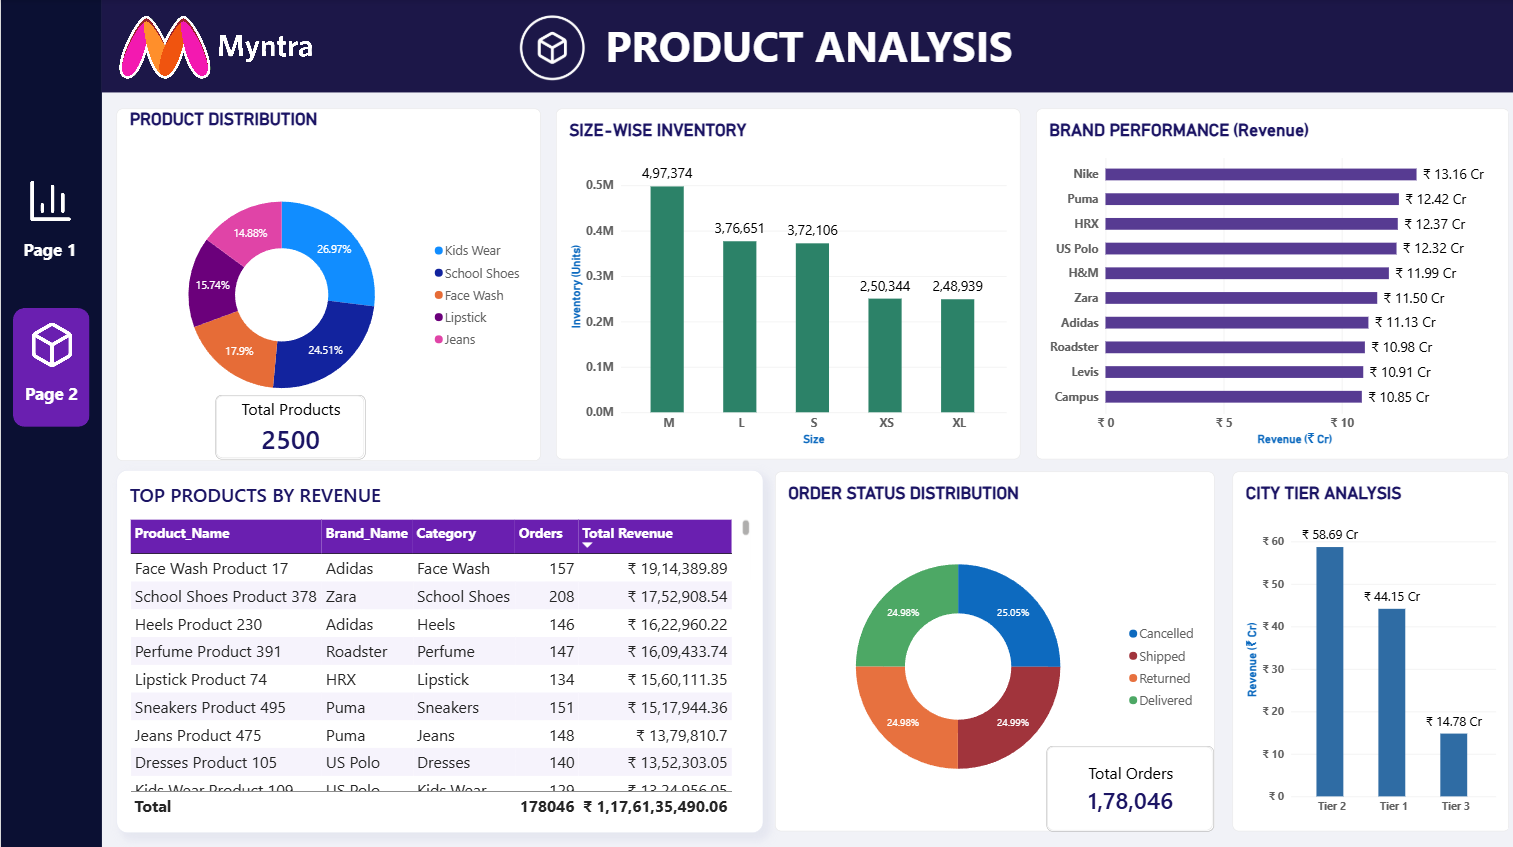

The dashboard page shown, as its layout file describes it:
{"tool":"powerbi","page":{"name":"Product Analysis","canvas":[1920,1080],"ordinal":1},"visuals":[{"type":"shape","box":[0,0,127.6,1080.5],"z":0,"group":"g6"},{"type":"shape","box":[127.6,0,1791.8,117.9],"z":0,"group":"g7"},{"type":"textbox","box":[763.5,23.2,790.6,71.5],"z":0,"group":"g2"},{"type":"donutChart","title":"PRODUCT DISTRIBUTION","fields":{"Category":["DimProduct.Category"],"Y":["Measure Table.Total Orders"]},"box":[145,137.9,535.4,444.6],"z":0,"group":"g5"},{"type":"shape","box":[13.5,209.3,96.7,150],"z":0,"group":"g1"},{"type":"shape","box":[15.5,391,96.7,150],"z":0,"group":"g3"},{"type":"tableEx","title":"TOP PRODUCTS BY REVENUE","fields":{"Values":["MyntraOrdersMaster.Product_Name","MyntraOrdersMaster.Brand_Name","MyntraOrdersMaster.Category","CountNonNull(MyntraOrdersMaster.Order_ID)","Measure Table.Total Revenue"]},"box":[145,593.4,815.7,458.1],"z":0},{"type":"donutChart","title":"ORDER STATUS DISTRIBUTION","fields":{"Category":["MyntraOrdersMaster.Order_Status"],"Y":["Measure Table.Total Orders"]},"box":[976.1,595.3,554.7,454.2],"z":0,"group":"g4"},{"type":"image","box":[143.1,9.7,253.2,102.4],"z":1000,"group":"g7"},{"type":"image","box":[653.3,19.3,85,85],"z":1000,"group":"g2"},{"type":"clusteredColumnChart","title":"SIZE-WISE INVENTORY","fields":{"Category":["MyntraProductCatalog.Size"],"Y":["Sum(MyntraProductCatalog.Units)"]},"box":[700.7,138.8,585.7,442.6],"z":1000},{"type":"group","id":"g1","title":"Page 1","box":[13.5,193.3,96.6,166.2],"z":1000,"group":"g6"},{"type":"image","box":[21.2,193.3,83,123],"z":1000,"group":"g1"},{"type":"image","box":[23.2,375,83,123],"z":1000,"group":"g3"},{"type":"cardVisual","fields":{"Data":["Measure Table.Total Products"]},"box":[270.6,499.4,189.4,81.2],"z":1000,"group":"g5"},{"type":"cardVisual","fields":{"Data":["Measure Table.Total Orders"]},"box":[1319.2,941.3,211.7,108.2],"z":1000,"group":"g4"},{"type":"group","id":"g2","title":"Group 2","box":[653.3,19.3,900.7,85],"z":2000,"group":"g7"},{"type":"clusteredBarChart","title":"BRAND PERFORMANCE (Revenue)","fields":{"Category":["DimProduct.Brand_Name"],"Y":["Measure Table.Revenue Cr"]},"box":[1306.6,138.8,597.3,442.6],"z":2000},{"type":"textbox","box":[28.2,300.3,71,32],"z":2000,"group":"g1"},{"type":"group","id":"g3","title":"Page 2","box":[15.5,375,96.6,166.2],"z":2000,"group":"g6"},{"type":"textbox","box":[30.2,482,71,32],"z":2000,"group":"g3"},{"type":"clusteredColumnChart","title":"CITY TIER ANALYSIS","fields":{"Category":["MyntraOrdersMaster.City_Tier"],"Y":["Measure Table.Revenue Cr"]},"box":[1554,595.3,349.9,454.2],"z":3000},{"type":"group","id":"g4","title":"chart 2","box":[976.1,595.3,554.7,454.2],"z":4000},{"type":"group","id":"g5","title":"chart 1","box":[145,137.9,535.4,444.6],"z":5000},{"type":"group","id":"g6","title":"Sidebar","box":[0,0,127.6,1080.5],"z":6000},{"type":"group","id":"g7","title":"Heading","box":[127.6,0,1791.8,117.9],"z":7000}]}

Visuals, with their boxes on the page's 1920x1080 design canvas (x1, y1, x2, y2). These are canvas units, not pixel positions in the 1513x847 screenshot, which may show the page scaled, cropped or inside an application window:
shape: x1=0 y1=0 x2=128 y2=1080
shape: x1=128 y1=0 x2=1919 y2=118
textbox: x1=764 y1=23 x2=1554 y2=95
"PRODUCT DISTRIBUTION" donutChart: x1=145 y1=138 x2=680 y2=582
shape: x1=14 y1=209 x2=110 y2=359
shape: x1=16 y1=391 x2=112 y2=541
"TOP PRODUCTS BY REVENUE" tableEx: x1=145 y1=593 x2=961 y2=1052
"ORDER STATUS DISTRIBUTION" donutChart: x1=976 y1=595 x2=1531 y2=1050
image: x1=143 y1=10 x2=396 y2=112
image: x1=653 y1=19 x2=738 y2=104
"SIZE-WISE INVENTORY" clusteredColumnChart: x1=701 y1=139 x2=1286 y2=581
"Page 1" group: x1=14 y1=193 x2=110 y2=360
image: x1=21 y1=193 x2=104 y2=316
image: x1=23 y1=375 x2=106 y2=498
cardVisual - Measure Table.Total Products: x1=271 y1=499 x2=460 y2=581
cardVisual - Measure Table.Total Orders: x1=1319 y1=941 x2=1531 y2=1050
"Group 2" group: x1=653 y1=19 x2=1554 y2=104
"BRAND PERFORMANCE (Revenue)" clusteredBarChart: x1=1307 y1=139 x2=1904 y2=581
textbox: x1=28 y1=300 x2=99 y2=332
"Page 2" group: x1=16 y1=375 x2=112 y2=541
textbox: x1=30 y1=482 x2=101 y2=514
"CITY TIER ANALYSIS" clusteredColumnChart: x1=1554 y1=595 x2=1904 y2=1050
"chart 2" group: x1=976 y1=595 x2=1531 y2=1050
"chart 1" group: x1=145 y1=138 x2=680 y2=582
"Sidebar" group: x1=0 y1=0 x2=128 y2=1080
"Heading" group: x1=128 y1=0 x2=1919 y2=118
